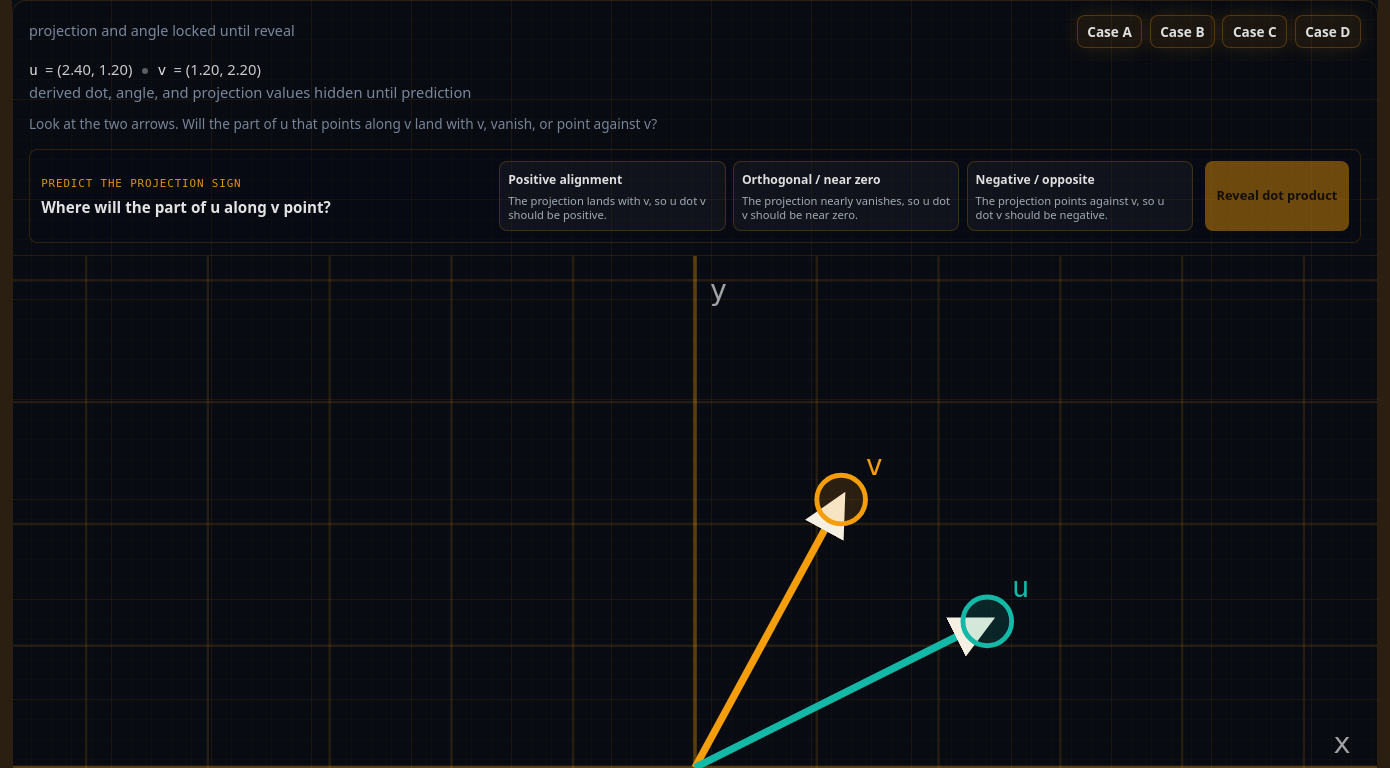
Test: DotProductViz prediction reveal › reveals negative signed scalar projection while keeping projection length nonnegative
Click the button "Case C" at (1255, 32), box left=1222, top=15, right=1287, bottom=48
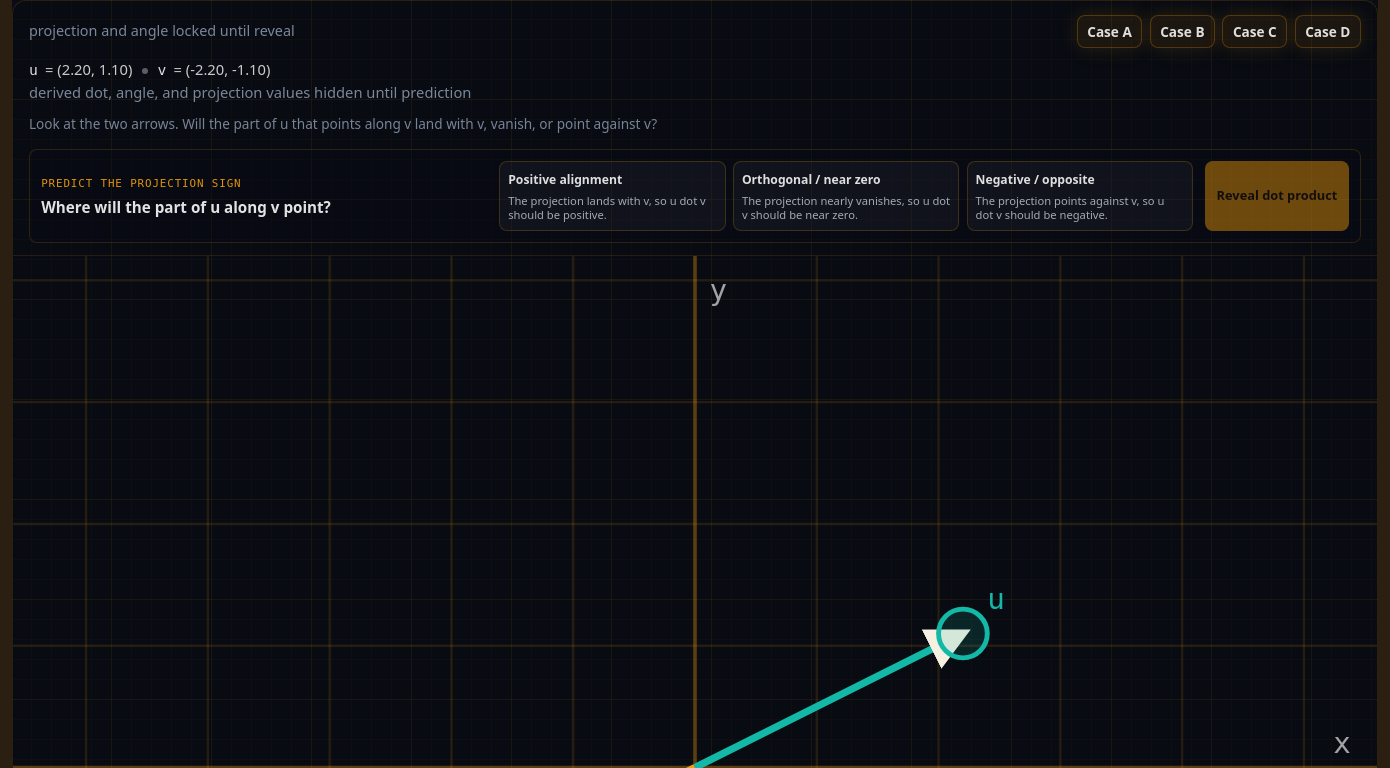
Click the button "Negative / opposite" at (1080, 196), box left=967, top=161, right=1193, bottom=231
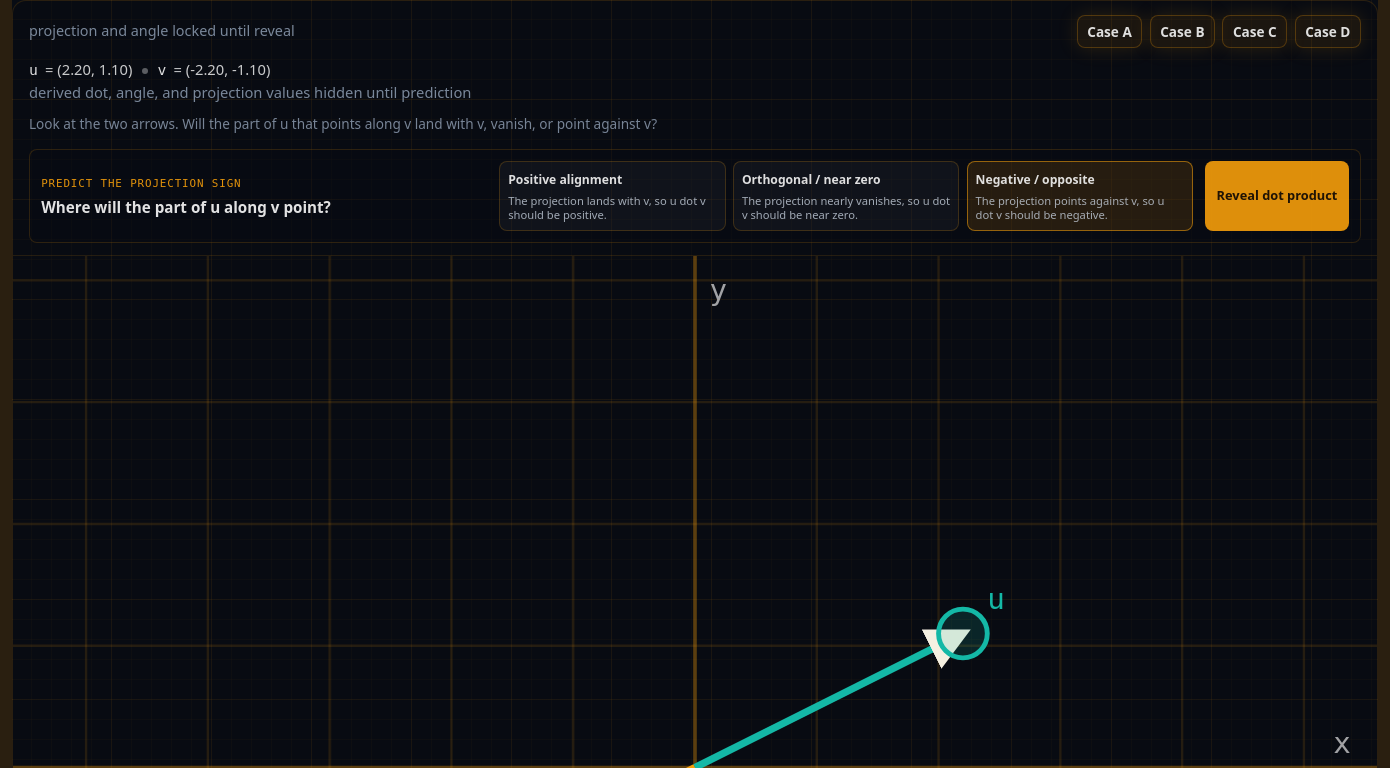
Click the button "Reveal dot product" at (1277, 196), box left=1205, top=161, right=1349, bottom=231
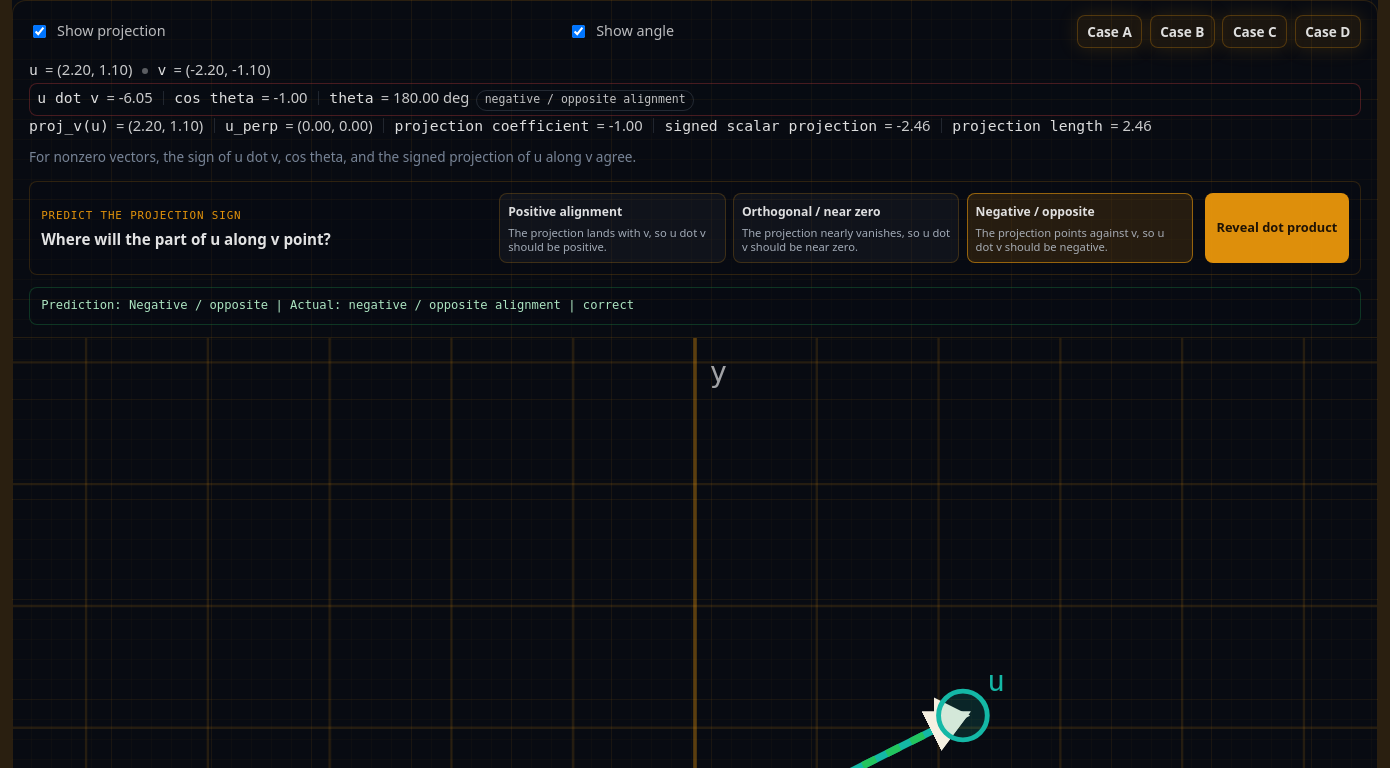
Expected: the text "Actual: negative / opposite alignment" is shown, left=29, top=288, right=1361, bottom=325
Expected: the text "signed scalar projection" is shown, left=664, top=116, right=877, bottom=136
